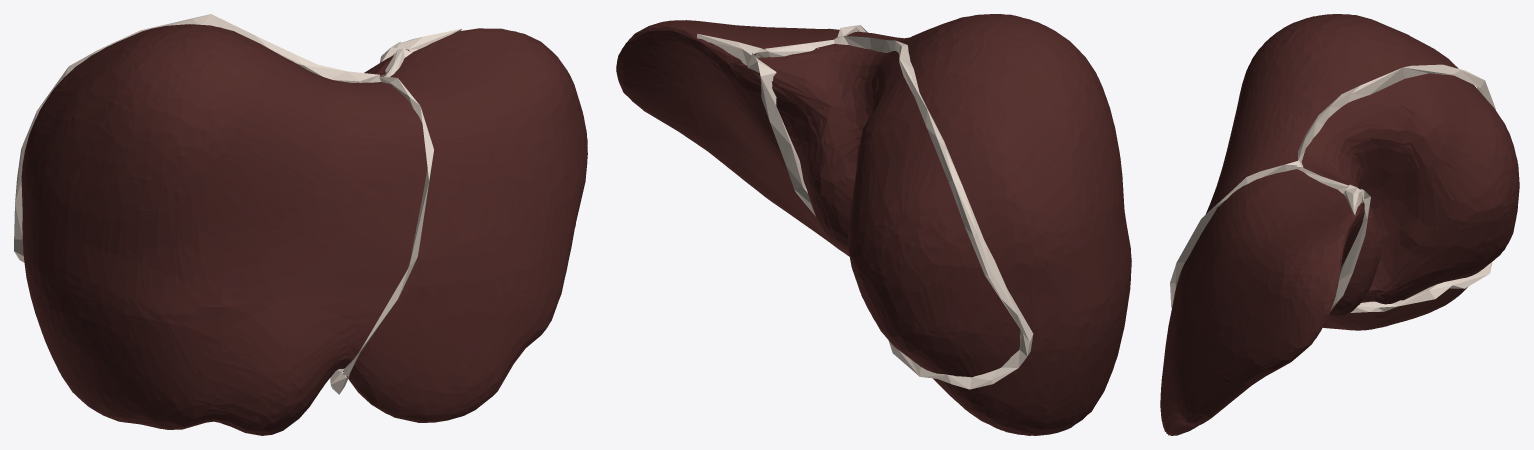
Rendered from VH_F_Liver_0.1.glb.
The picture shows the model from 3 angles, left to right: view 1: azimuth 30°, elevation 25°; view 2: azimuth 150°, elevation 25°; view 3: azimuth 270°, elevation 25°; orthographic projection. The views are drawn at different scales.
Visible parts, largest first — view 1: VH_F_capsule_of_the_liver, VH_F_left_superomedial_segment1, VH_F_right_anterosuperior_segment, VH_F_left_superomedial_segment, VH_F_left_inferomedial_segment, VH_F_right_anteroinferior_segment, VH_F_left_anterolateral_segment, VH_F_coronary_ligament_of_liver, VH_F_falciform_ligament, VH_F_right_posterosuperior_segment; view 2: VH_F_capsule_of_the_liver, VH_F_bare_area_of_liver, VH_F_right_posterosuperior_segment, VH_F_diaphragmatic_surface_of_liver, VH_F_coronary_ligament_of_liver, VH_F_left_superomedial_segment, VH_F_caudate_lobe, VH_F_right_anterosuperior_segment, VH_F_right_posteroinferior_segment, VH_F_ligamentum_venosum, VH_F_gastric_impression_of_liver, VH_F_right_anteroinferior_segment (+3 smaller); view 3: VH_F_capsule_of_the_liver, VH_F_bare_area_of_liver, VH_F_left_superomedial_segment, VH_F_caudate_lobe, VH_F_right_posterosuperior_segment, VH_F_coronary_ligament_of_liver, VH_F_left_superomedial_segment1, VH_F_diaphragmatic_surface_of_liver, VH_F_right_anterosuperior_segment, VH_F_left_anterolateral_segment, VH_F_falciform_ligament, VH_F_right_posteroinferior_segment (+4 smaller).
Boxes of the visible parts, x1=… form: VH_F_capsule_of_the_liver: x1=21, y1=24, x2=587, y2=435; VH_F_left_superomedial_segment1: x1=221, y1=58, x2=429, y2=306; VH_F_right_anterosuperior_segment: x1=39, y1=24, x2=283, y2=306; VH_F_left_superomedial_segment: x1=378, y1=30, x2=587, y2=285; VH_F_left_inferomedial_segment: x1=207, y1=286, x2=396, y2=434; VH_F_right_anteroinferior_segment: x1=38, y1=265, x2=222, y2=429; VH_F_left_anterolateral_segment: x1=343, y1=228, x2=574, y2=420; VH_F_coronary_ligament_of_liver: x1=14, y1=14, x2=412, y2=262; VH_F_falciform_ligament: x1=343, y1=76, x2=433, y2=376; VH_F_right_posterosuperior_segment: x1=21, y1=30, x2=150, y2=239; VH_F_capsule_of_the_liver: x1=616, y1=14, x2=1131, y2=435; VH_F_bare_area_of_liver: x1=750, y1=47, x2=1020, y2=376; VH_F_right_posterosuperior_segment: x1=848, y1=61, x2=1098, y2=331; VH_F_diaphragmatic_surface_of_liver: x1=616, y1=30, x2=997, y2=428; VH_F_coronary_ligament_of_liver: x1=765, y1=36, x2=1033, y2=389; VH_F_left_superomedial_segment: x1=618, y1=20, x2=839, y2=184; VH_F_caudate_lobe: x1=778, y1=48, x2=897, y2=249; VH_F_right_anterosuperior_segment: x1=891, y1=14, x2=1130, y2=274; VH_F_right_posteroinferior_segment: x1=861, y1=293, x2=1100, y2=435; VH_F_ligamentum_venosum: x1=747, y1=53, x2=815, y2=216; VH_F_gastric_impression_of_liver: x1=662, y1=61, x2=847, y2=253; VH_F_right_anteroinferior_segment: x1=1066, y1=248, x2=1131, y2=427; VH_F_capsule_of_the_liver: x1=1160, y1=14, x2=1470, y2=435; VH_F_bare_area_of_liver: x1=1304, y1=75, x2=1519, y2=300; VH_F_left_superomedial_segment: x1=1174, y1=172, x2=1364, y2=383; VH_F_caudate_lobe: x1=1304, y1=98, x2=1438, y2=318; VH_F_right_posterosuperior_segment: x1=1391, y1=29, x2=1519, y2=245; VH_F_coronary_ligament_of_liver: x1=1297, y1=64, x2=1495, y2=312; VH_F_left_superomedial_segment1: x1=1198, y1=57, x2=1323, y2=239; VH_F_diaphragmatic_surface_of_liver: x1=1168, y1=204, x2=1494, y2=435; VH_F_right_anterosuperior_segment: x1=1250, y1=14, x2=1392, y2=102; VH_F_left_anterolateral_segment: x1=1160, y1=300, x2=1236, y2=434; VH_F_falciform_ligament: x1=1170, y1=161, x2=1297, y2=307; VH_F_right_posteroinferior_segment: x1=1385, y1=226, x2=1512, y2=326.
Bounding box in the file's own units: 0.2473 × 0.1703 × 0.1665.
